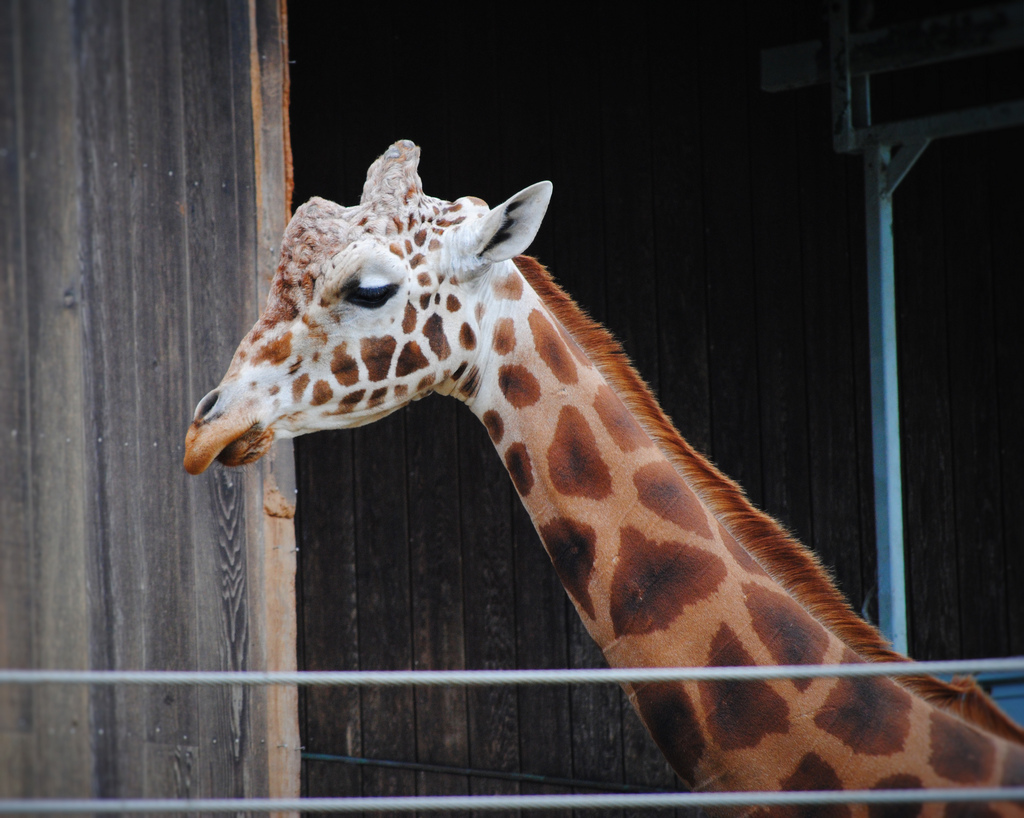giraffe: (182, 144, 979, 759)
